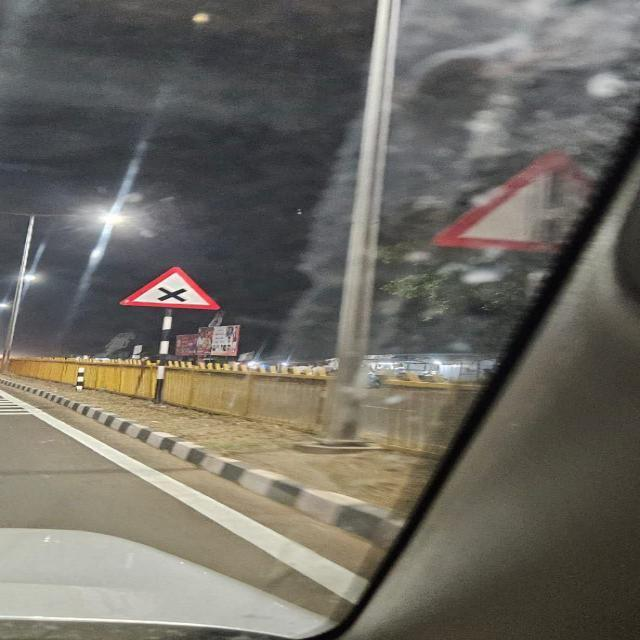cross road: (119, 264, 221, 312)
